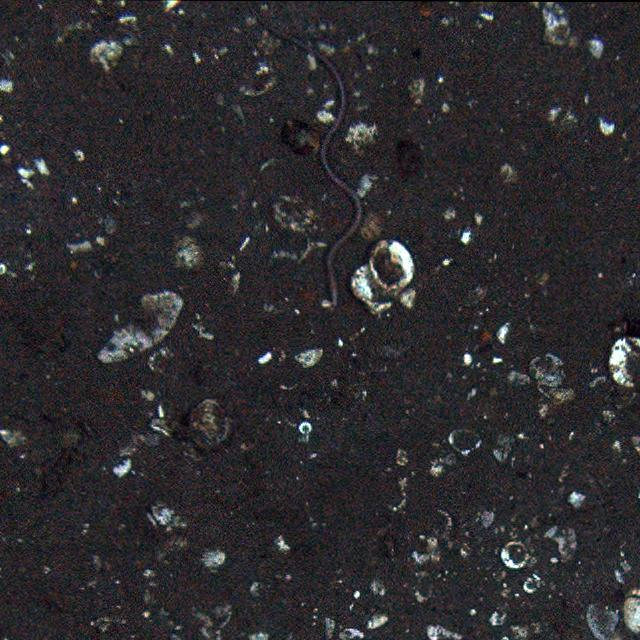eel: (254, 3, 364, 308)
